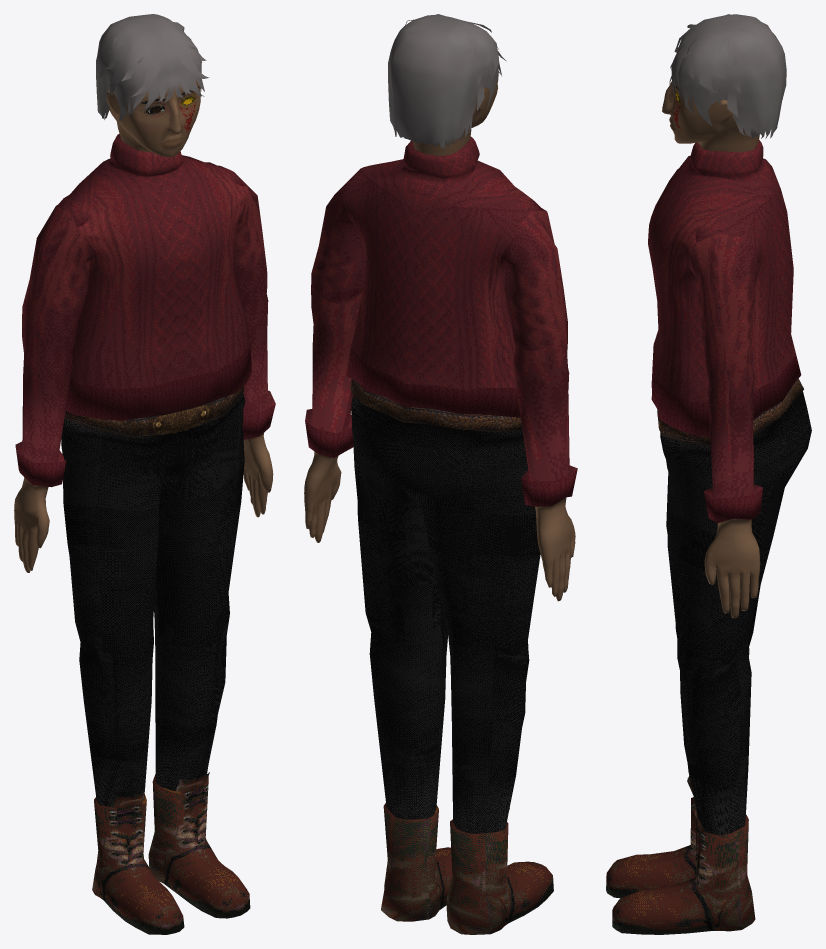
Rendered from remake.glb.
3 views of the same model, side by side, from view 1: azimuth 30°, elevation 25°; view 2: azimuth 150°, elevation 25°; view 3: azimuth 270°, elevation 25° (orthographic). The views are drawn at different scales.
Visible parts, largest first — view 1: Torso, Hair.001, Hair; view 2: Torso, Hair.001, Hair; view 3: Torso, Hair.001, Hair.
Boxes of the visible parts, box(x1,y1,x2,y2) form: Torso: box(14, 134, 275, 934); Hair.001: box(96, 14, 209, 121); Hair: box(106, 80, 200, 157); Torso: box(304, 136, 577, 934); Hair.001: box(388, 14, 506, 148); Hair: box(412, 79, 497, 155); Torso: box(606, 140, 811, 934); Hair.001: box(669, 14, 786, 138); Hair: box(662, 75, 759, 152).
Bounding box in the file's own units: 3.34 × 10.86 × 2.29.
2 materials, 2 textured.
